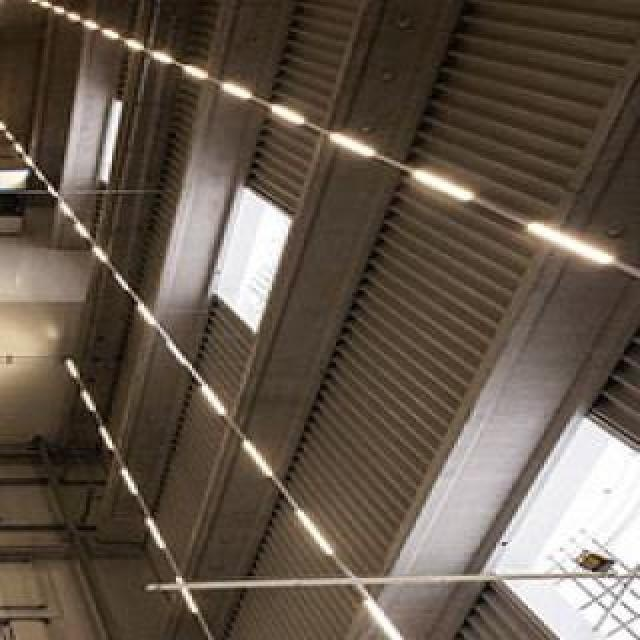fluorescent tube: (518, 214, 627, 271), (402, 158, 478, 211), (352, 588, 422, 640), (287, 505, 340, 562), (325, 120, 380, 164), (169, 573, 216, 623), (136, 505, 169, 575), (96, 420, 128, 478), (196, 369, 231, 420), (266, 98, 306, 135), (115, 462, 149, 505), (239, 440, 277, 476), (69, 386, 109, 418), (222, 72, 254, 112), (125, 294, 162, 326), (149, 44, 178, 78), (178, 61, 220, 83), (60, 352, 82, 384), (86, 249, 109, 267), (58, 191, 73, 218)
